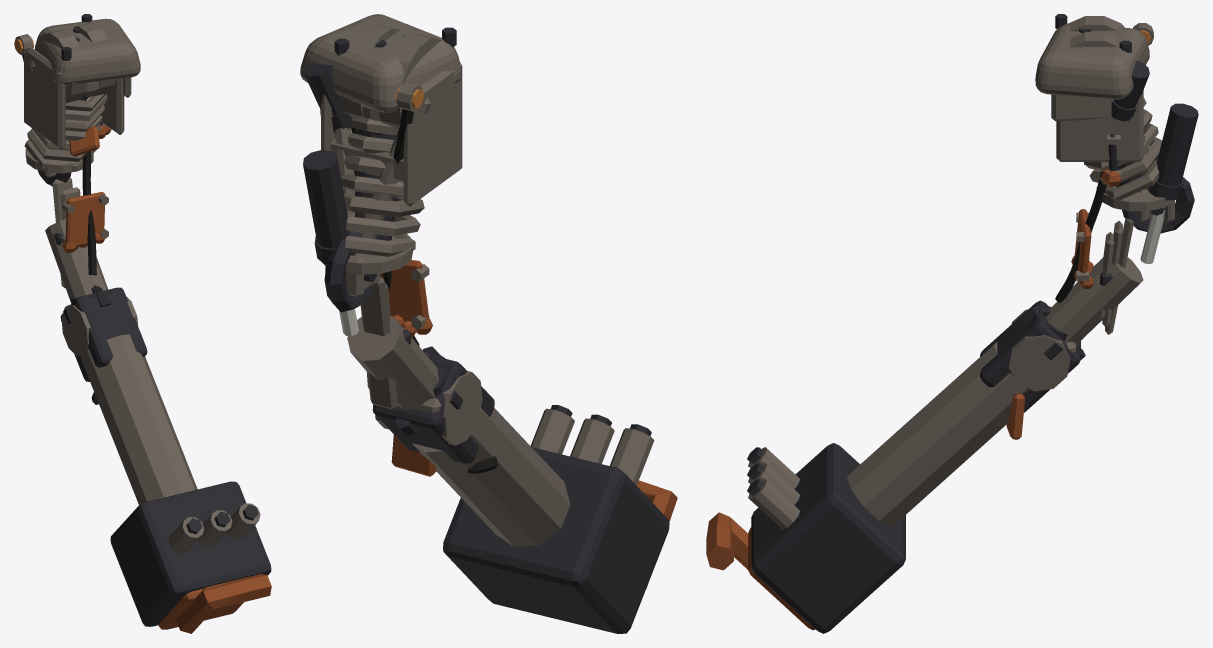
Rendered from ar_godhammer.glb.
The picture shows the model from 3 angles, left to right: view 1: azimuth 30°, elevation 25°; view 2: azimuth 150°, elevation 25°; view 3: azimuth 270°, elevation 25°; orthographic projection. The views are drawn at different scales.
Visible parts, largest first — view 1: ar_godhammer; view 2: ar_godhammer; view 3: ar_godhammer.
Boxes of the visible parts, left/top/right/bottom form: ar_godhammer: left=14, top=14, right=271, bottom=633; ar_godhammer: left=300, top=14, right=677, bottom=633; ar_godhammer: left=706, top=14, right=1198, bottom=633.
Size of the model in its own units: 0.1204 by 0.5463 by 0.4182.
